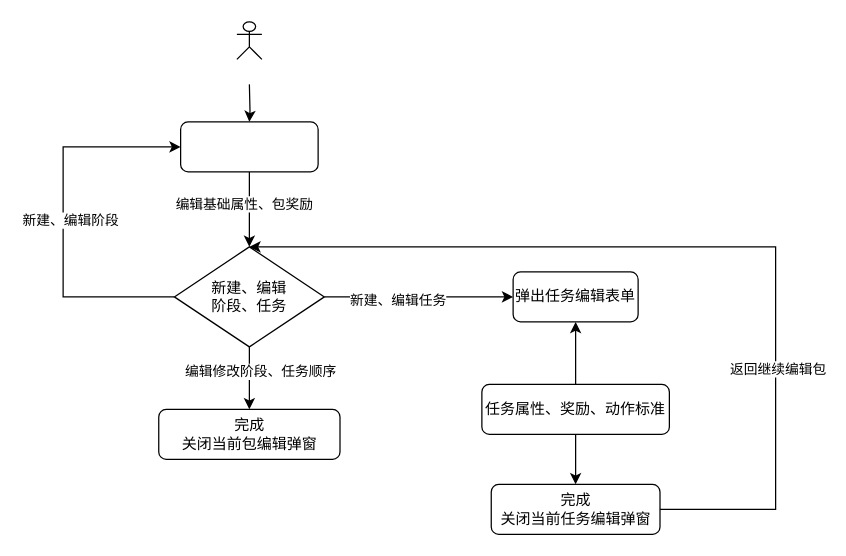
This 846x556 diagram has some shape labels left out. Here are the shapes that lost their labels. From the top down, the centre of each, then its label:
At [249,40]: "管理员".
At [248,146]: "新建、编辑任务包".
